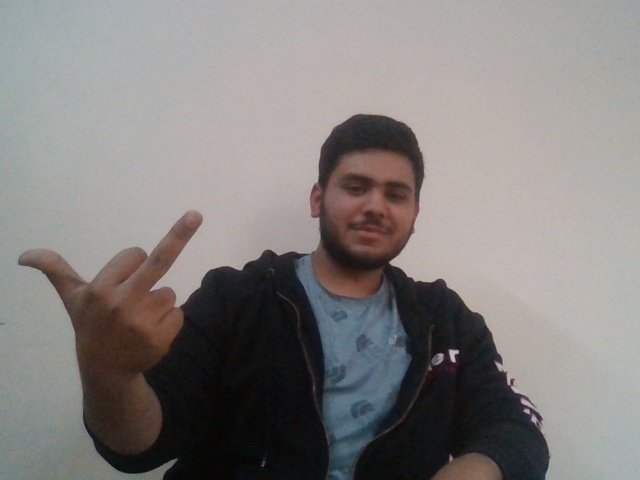Hello: (16, 207, 205, 378)
